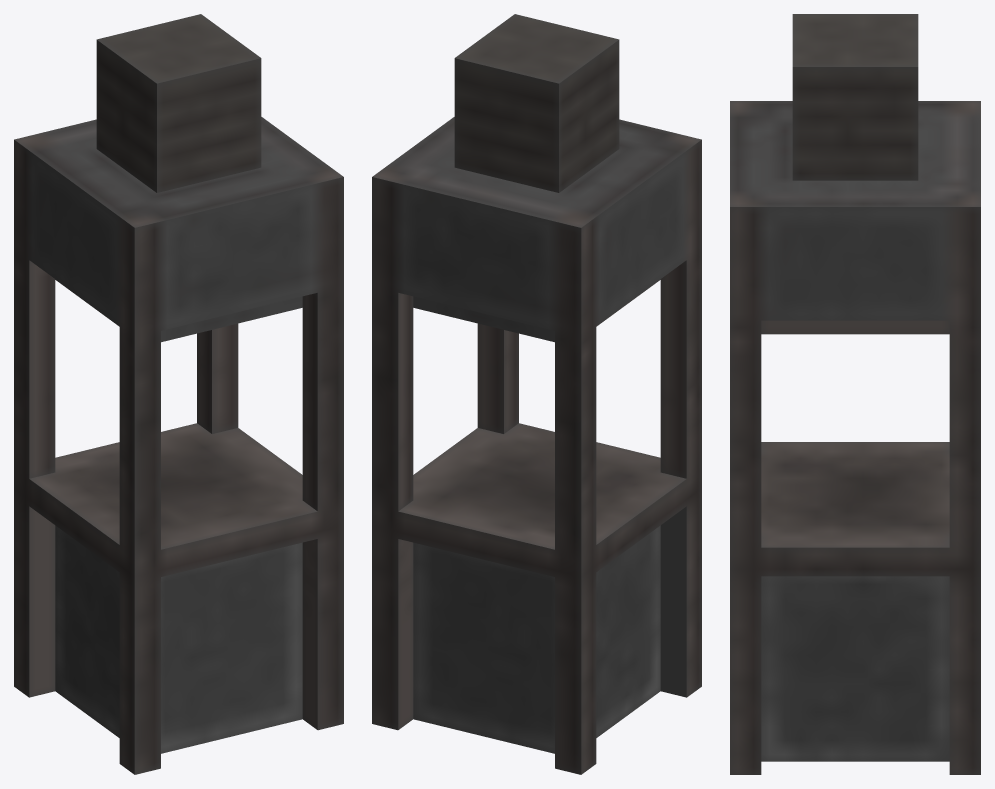
File: burner_press.obj
3 views of the same model, side by side, from view 1: azimuth 30°, elevation 25°; view 2: azimuth 150°, elevation 25°; view 3: azimuth 270°, elevation 25° (orthographic). The views are drawn at different scales.
Parts seen in each view (by area): view 1: Cube.001_Cube.002; view 2: Cube.001_Cube.002; view 3: Cube.001_Cube.002.
Part boxes in pixels (x1,y1,x2,y2): Cube.001_Cube.002: [14, 14, 343, 774]; Cube.001_Cube.002: [372, 14, 701, 774]; Cube.001_Cube.002: [730, 14, 980, 774].
Bounding box in the file's own units: 1 × 3 × 1.
